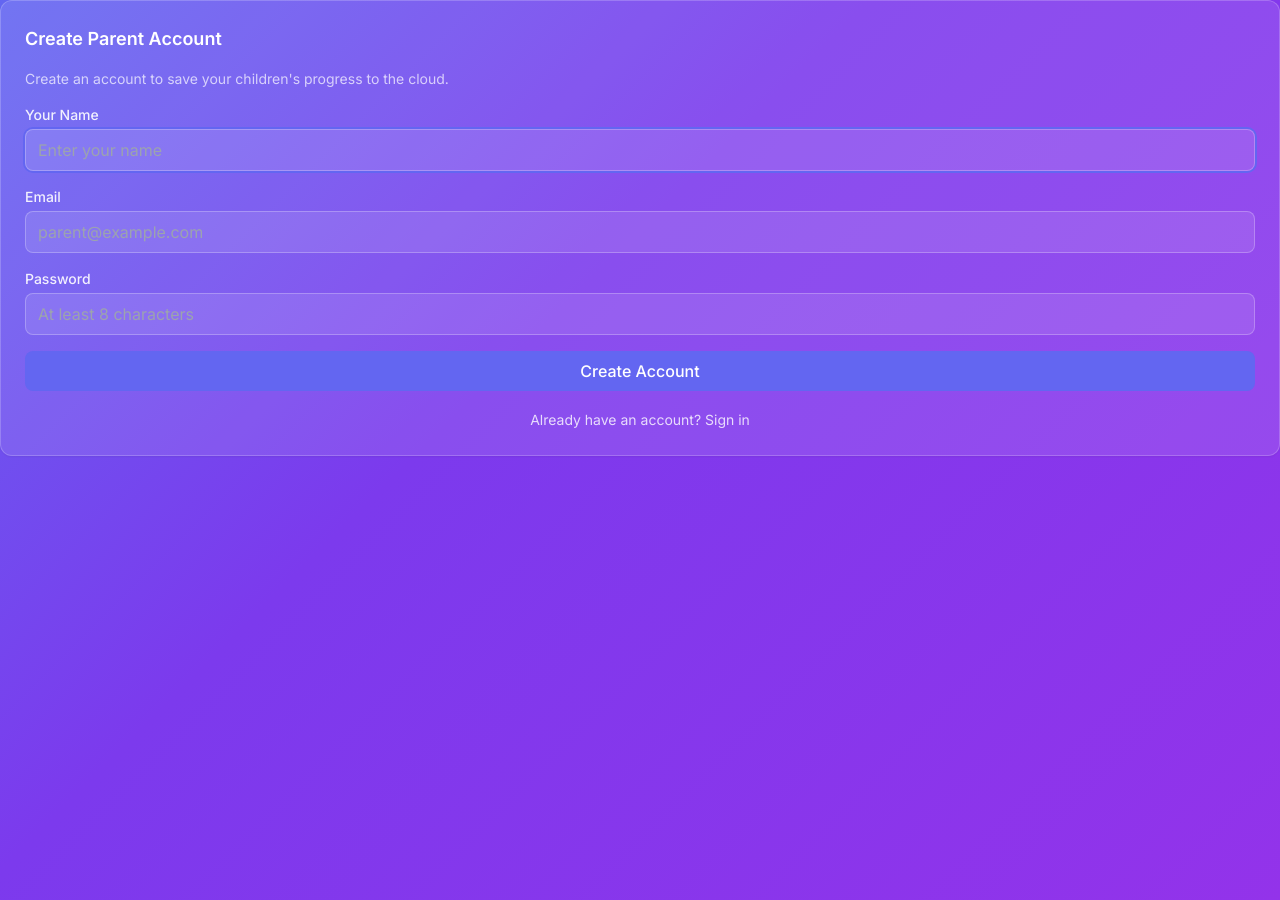
Test: AuthForm › sign up mode › should validate password length in signup mode
In the field labelled "Your Name": (640, 150) [25,129,1255,171], type "Parent"
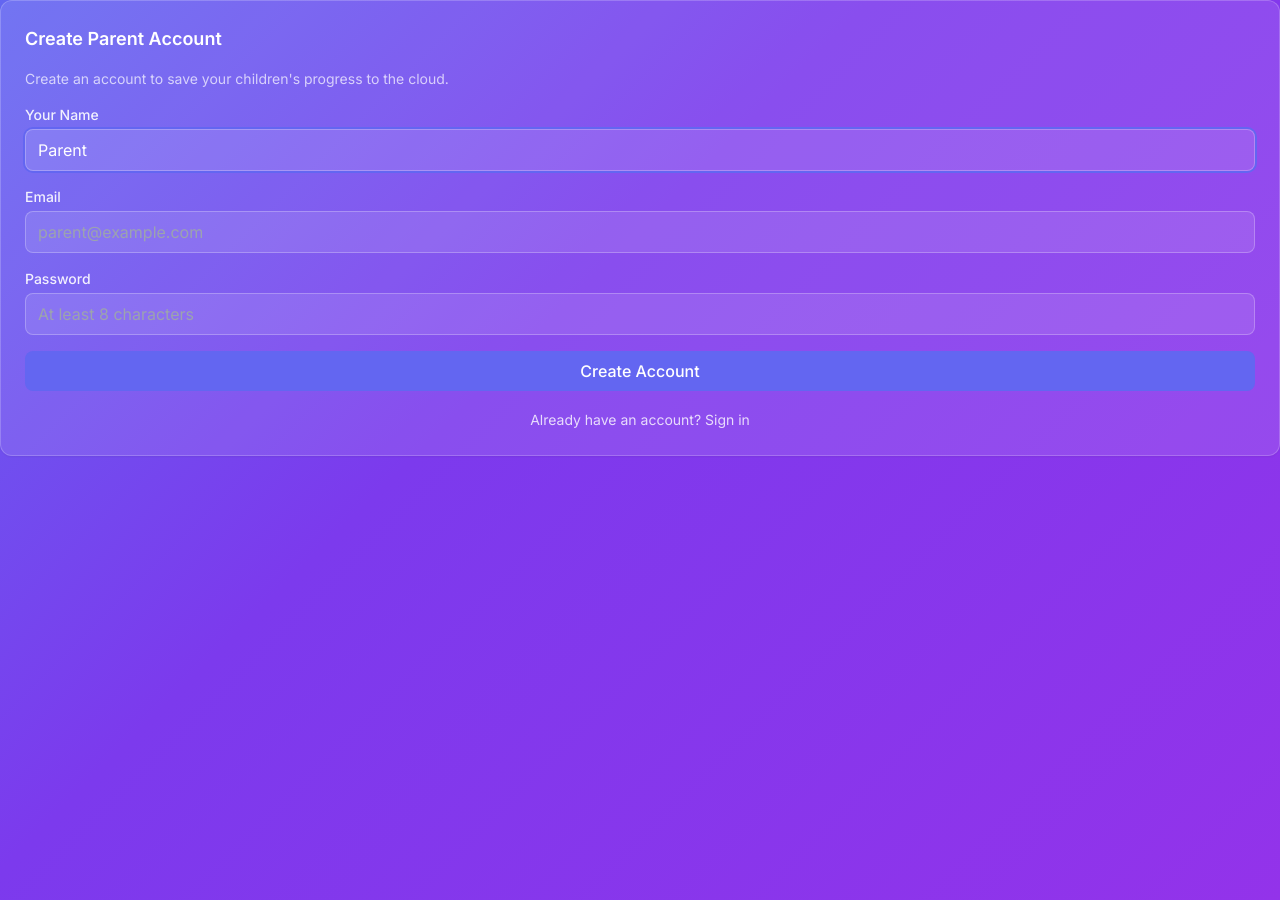
In the field labelled "Email": (640, 232) [25,211,1255,253], type "test@test.com"
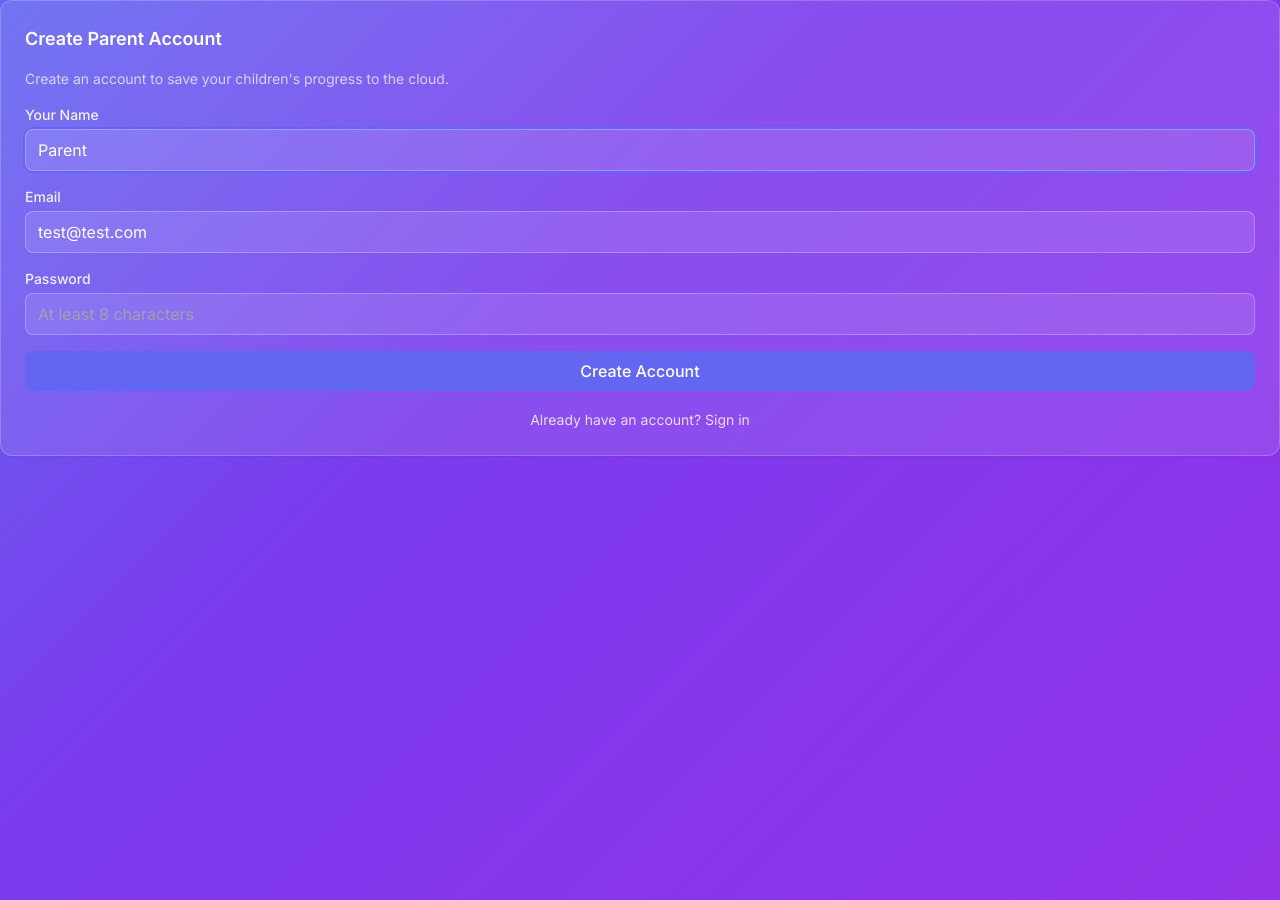
In the password field labelled "Password": (640, 314) [25,293,1255,335], type "1234567"
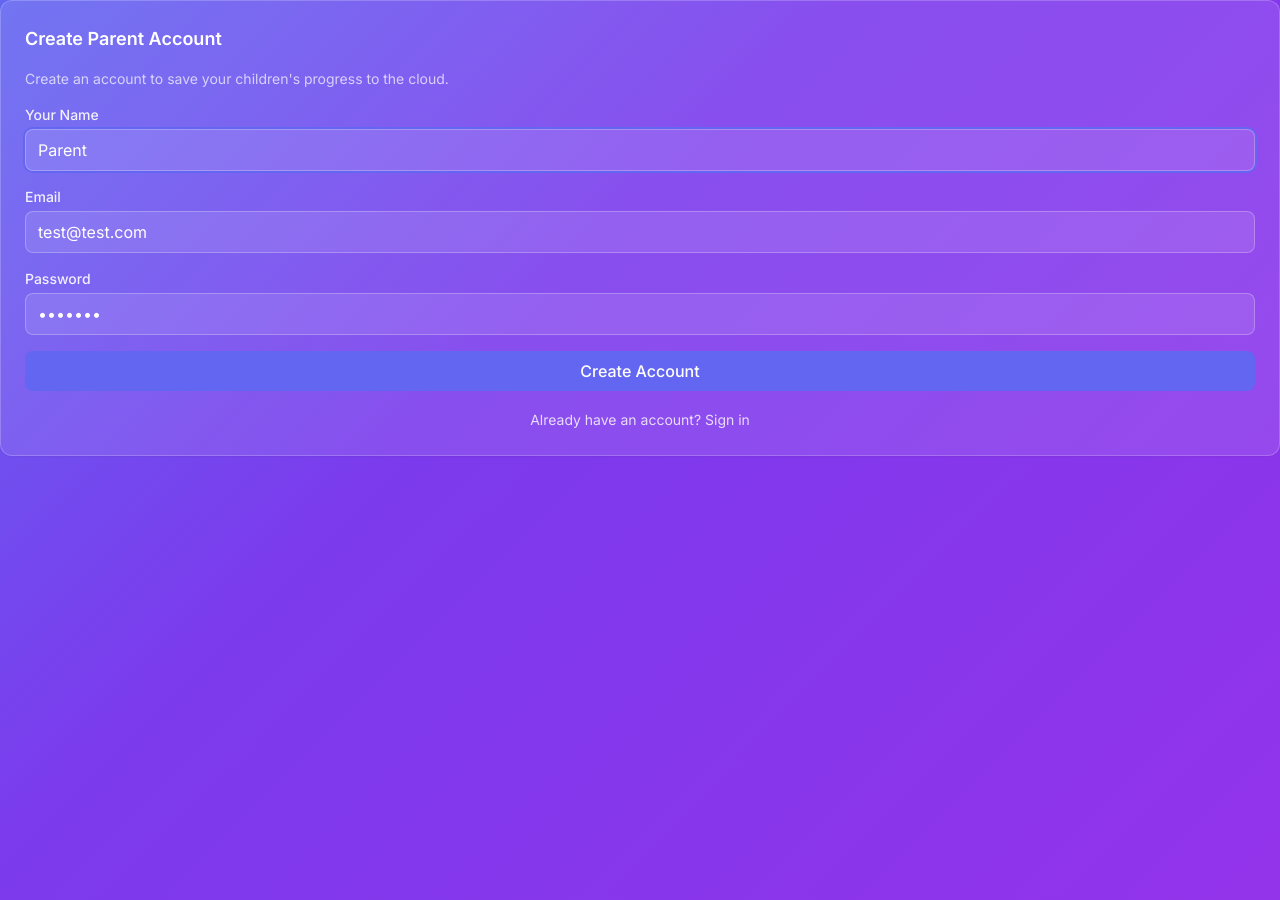
Click the button "Create Account": (640, 371) [25,351,1255,391]
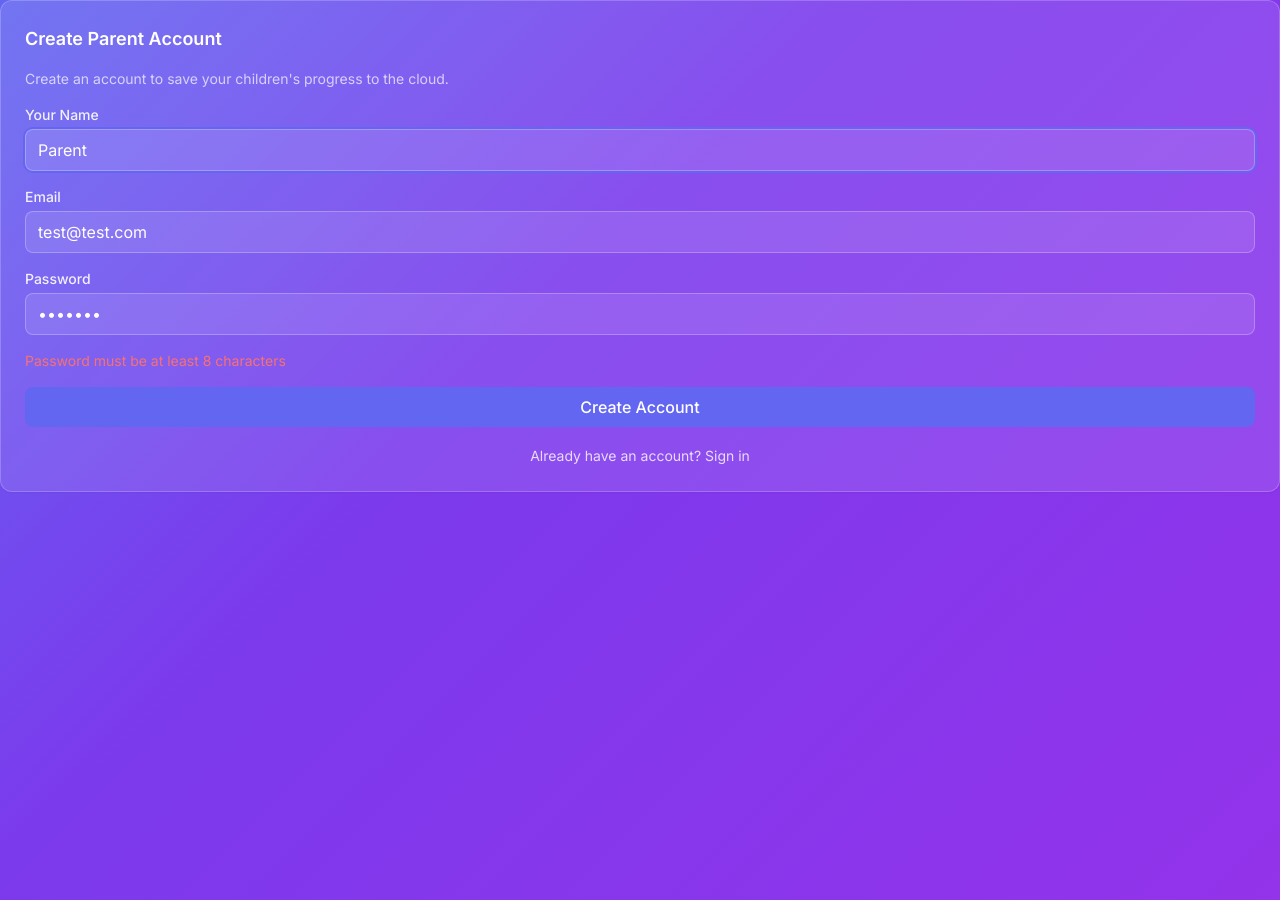
Check: the text "Password must be at least 8 characters" is shown, box [25,352,286,369]
